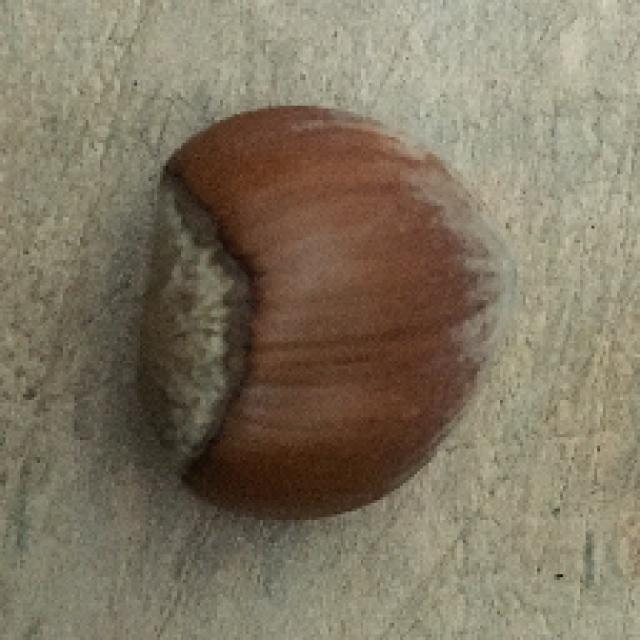qualityHazelnut: (135, 98, 521, 528)
